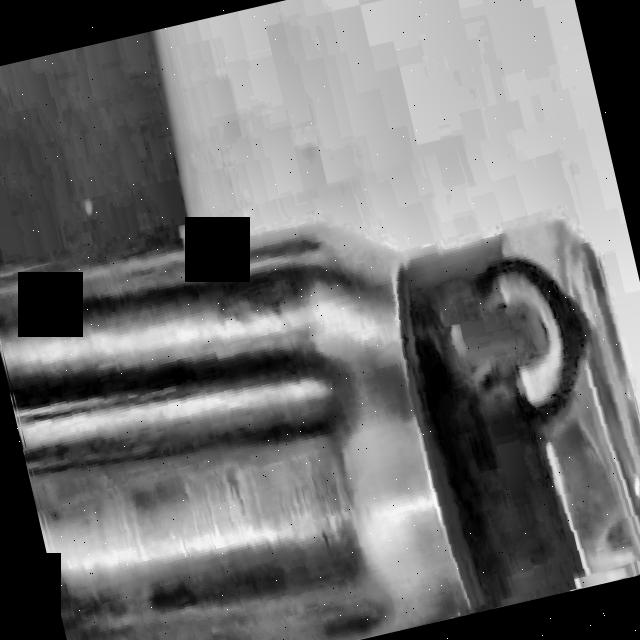bottle: (0, 222, 640, 640)
